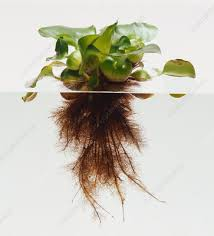water_hyacinth: (22, 16, 197, 93)
